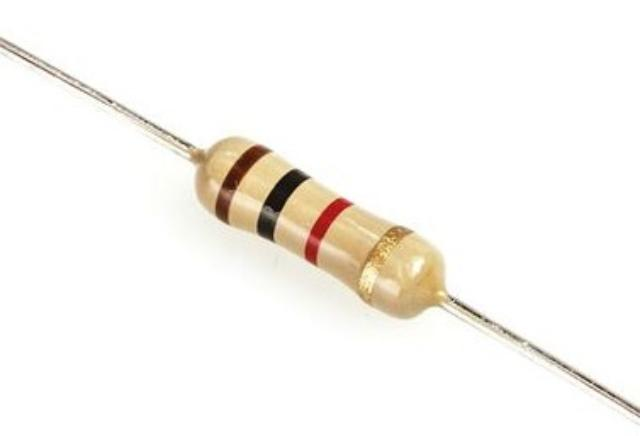black: (256, 168, 311, 243)
brown: (215, 141, 273, 226)
gold: (355, 223, 411, 305)
red: (302, 196, 354, 268)
resistor: (160, 107, 478, 339)
